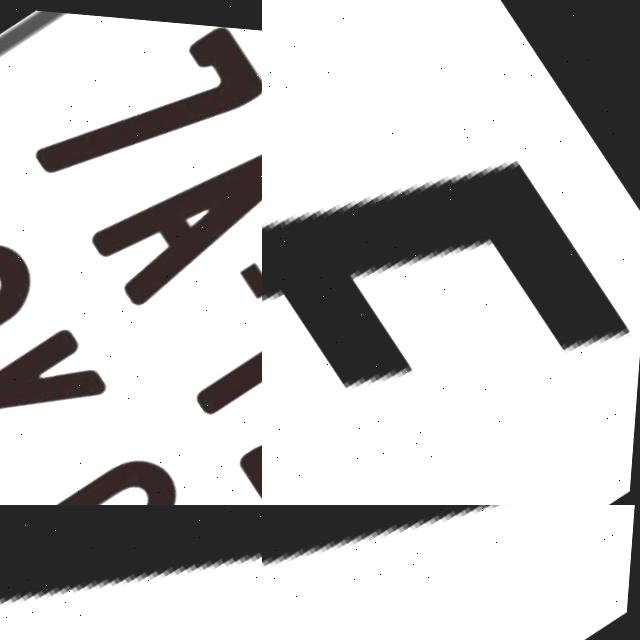3: (0, 209, 56, 437)
7: (23, 6, 262, 228)
9: (262, 505, 640, 640)
A: (83, 89, 262, 318)
E: (262, 151, 637, 385)
G: (0, 420, 206, 505)
K: (0, 307, 115, 505)
V: (0, 505, 262, 640)
Y: (180, 222, 262, 444)
